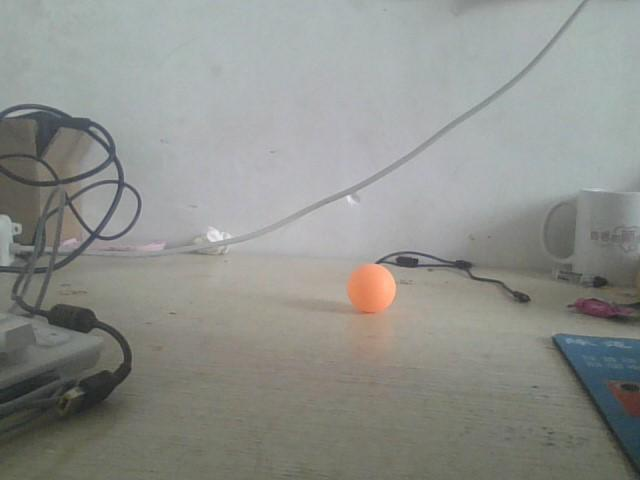ball: (347, 264, 394, 313)
